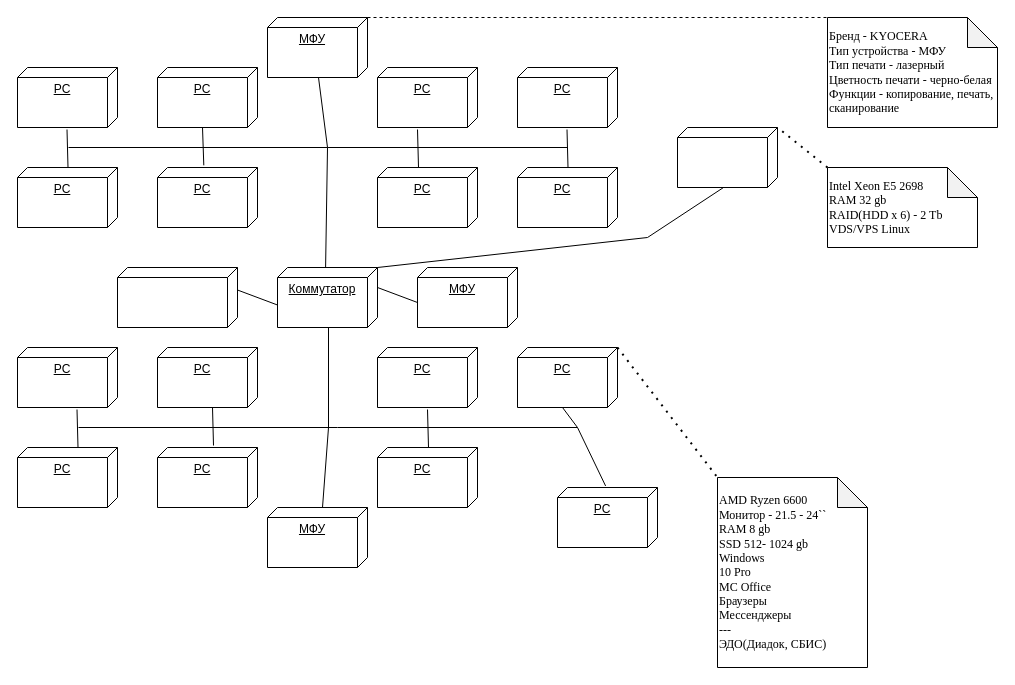
Image size: 1015x685. Some labels were removed from this diagram. Each missing label, with the box of its shape:
Маршрутизато р Mikrotik: (116, 266, 238, 328)
Сервер: (676, 126, 778, 188)
